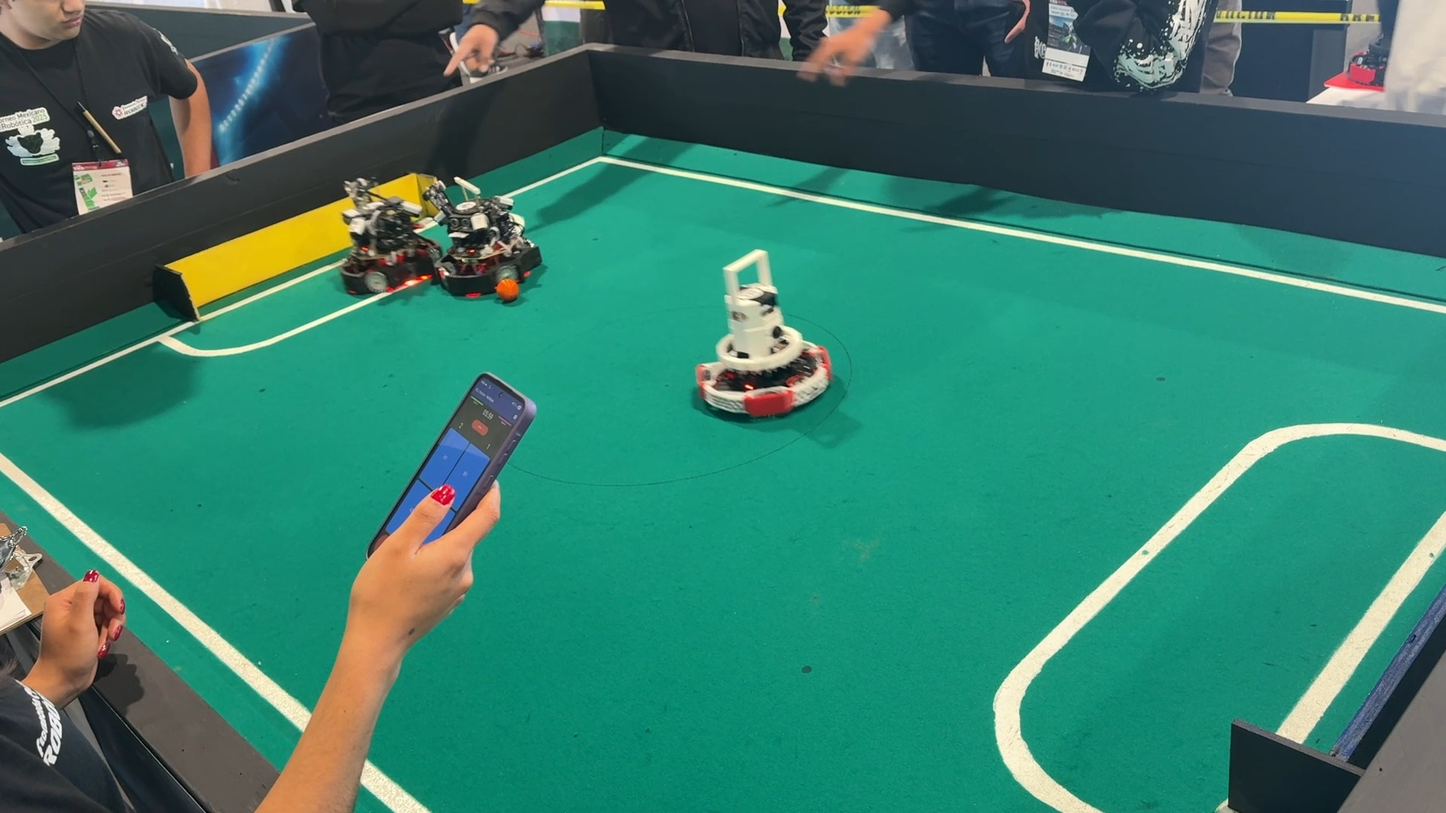Robot: (690, 240, 841, 440), (424, 168, 552, 321), (317, 168, 437, 303)
pelota: (492, 280, 530, 310)
